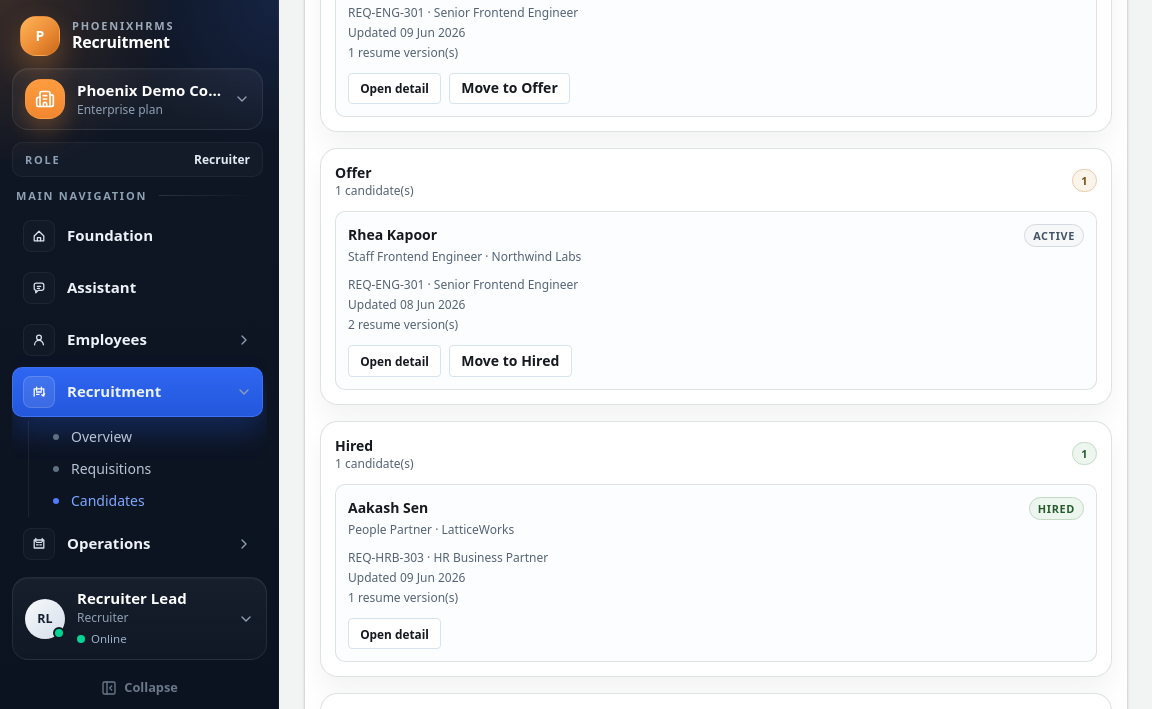
Test: RecruitmentCandidateDetailPage › lets a recruiter advance a candidate from the board in demo mode
(page scrolled)
Click the button "Move to Hired". click: point(510, 361)
box: [449,345,572,377]
(page scrolled)
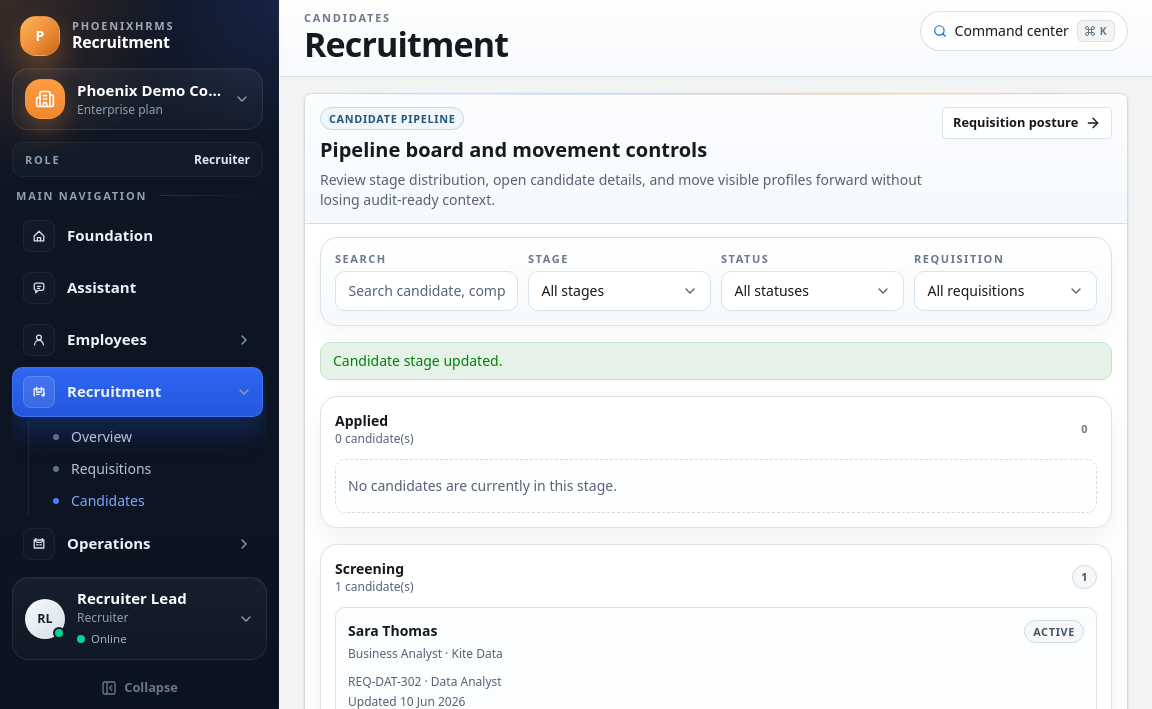
Check: the text "Candidate stage updated." is shown, box [320,342,1112,380]
